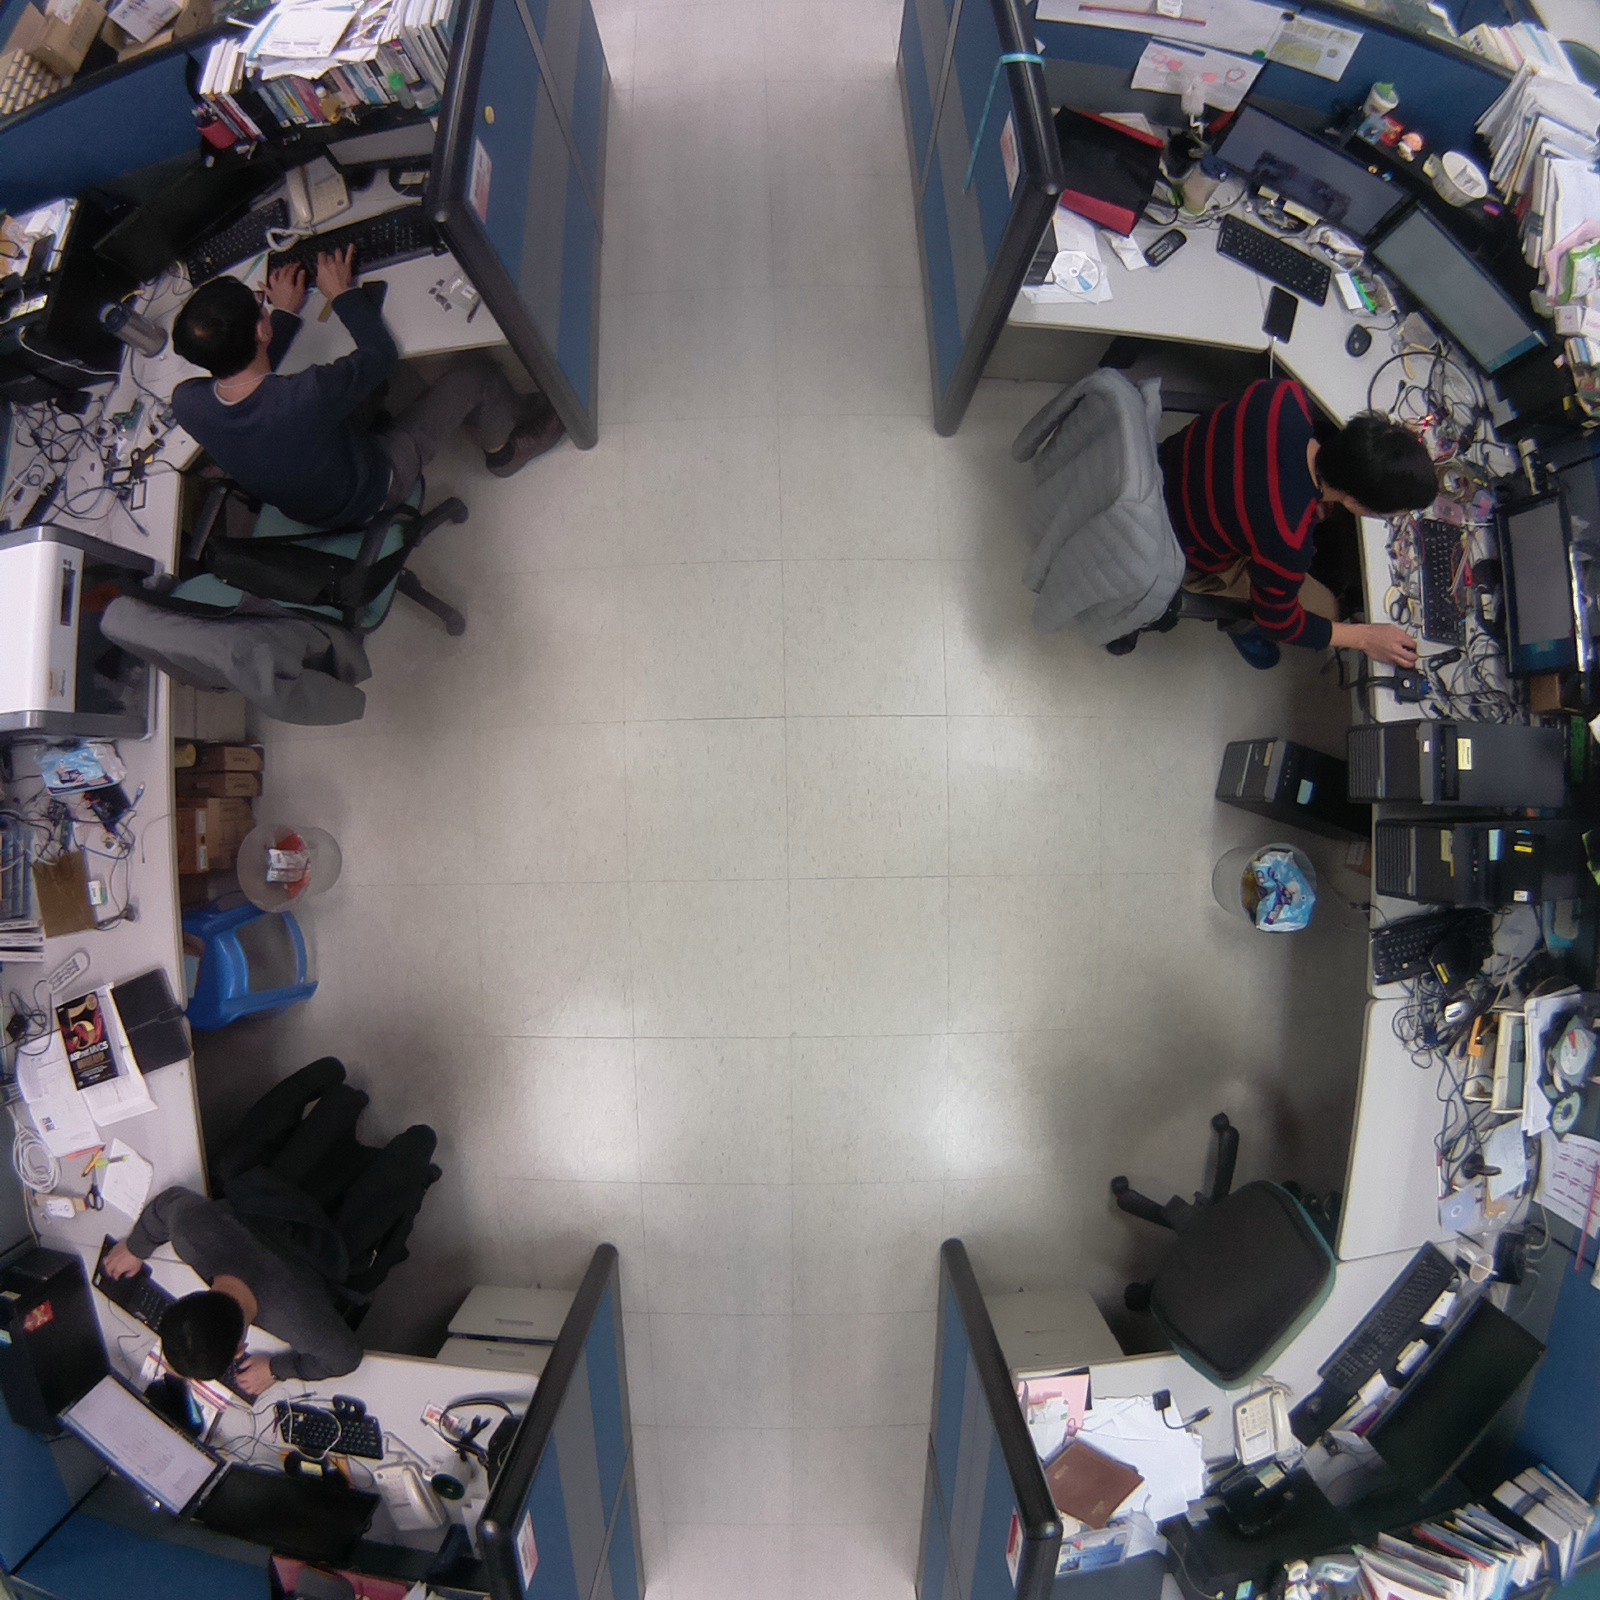chair: (1081, 1093, 1350, 1404)
head: (1306, 404, 1453, 529), (166, 274, 283, 372), (153, 1282, 251, 1385)
sitting: (88, 269, 494, 742), (988, 369, 1440, 681), (91, 1045, 453, 1391)
